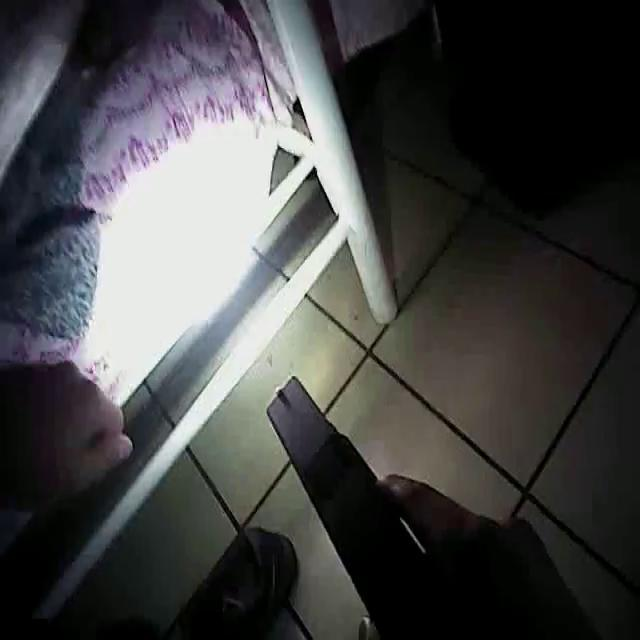gun: (225, 344, 472, 640)
